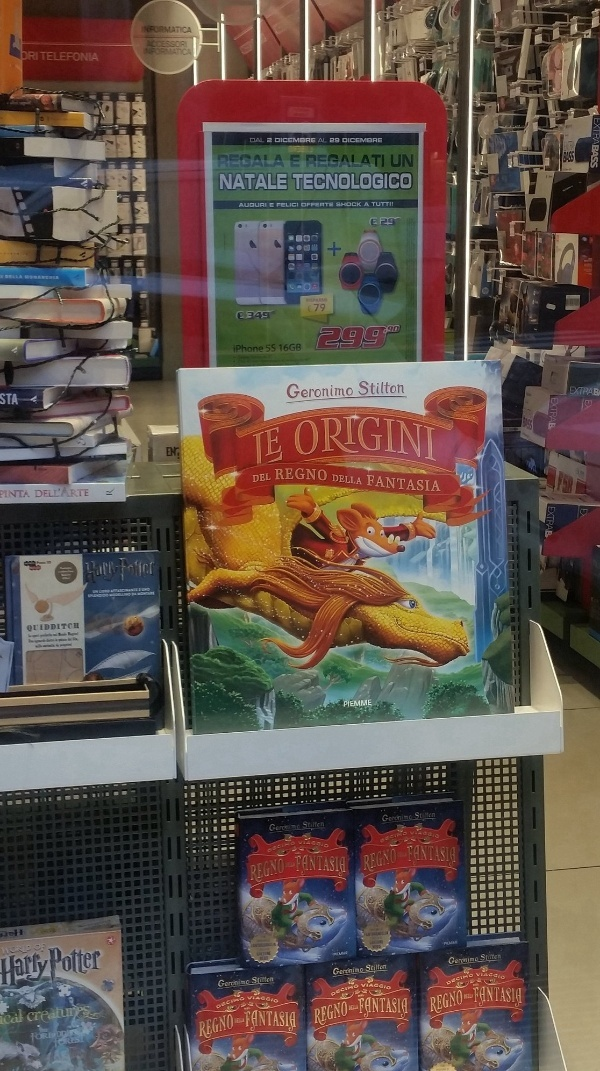text: (305, 410, 320, 464), (321, 410, 336, 464), (337, 410, 352, 464), (353, 410, 368, 464), (369, 410, 384, 464), (385, 410, 400, 464), (401, 410, 416, 464), (417, 410, 432, 464), (49, 941, 64, 983), (65, 941, 80, 983), (81, 941, 96, 983), (257, 426, 272, 466), (33, 948, 49, 985), (1, 948, 16, 985), (17, 948, 32, 985), (294, 410, 304, 464), (433, 988, 448, 1020), (449, 988, 463, 1020), (209, 1013, 224, 1042), (369, 846, 384, 875), (369, 995, 384, 1024), (385, 995, 400, 1024), (548, 506, 560, 540), (257, 857, 272, 884), (321, 1000, 336, 1027), (273, 426, 283, 466), (129, 557, 144, 583), (33, 1027, 48, 1053), (49, 1027, 64, 1053), (65, 1027, 80, 1053), (321, 326, 336, 351), (337, 326, 352, 351), (353, 326, 368, 351), (369, 326, 384, 351), (257, 1010, 272, 1035), (273, 1010, 288, 1035), (417, 845, 432, 869), (433, 845, 448, 869), (481, 985, 496, 1009), (497, 985, 512, 1009), (97, 560, 112, 584), (385, 846, 397, 875), (305, 855, 320, 878), (321, 855, 336, 878), (561, 470, 574, 495), (357, 995, 368, 1024), (369, 930, 384, 951), (33, 1007, 48, 1028), (49, 1007, 64, 1028), (594, 118, 600, 170), (551, 398, 560, 432), (369, 475, 384, 495), (385, 475, 400, 495), (401, 475, 416, 495), (417, 475, 432, 495), (244, 1010, 256, 1035), (273, 857, 284, 884), (337, 1000, 348, 1027), (305, 173, 320, 192), (321, 173, 336, 192), (337, 173, 352, 192), (353, 173, 368, 192), (369, 173, 384, 192), (385, 173, 400, 192), (65, 1007, 78, 1028), (85, 560, 96, 584), (199, 1013, 208, 1042), (225, 1013, 234, 1042), (118, 557, 128, 583), (145, 557, 155, 583), (337, 383, 353, 399), (225, 173, 240, 190), (241, 173, 256, 190), (257, 173, 272, 190), (33, 632, 48, 649), (49, 632, 64, 649), (1, 1009, 16, 1026), (225, 153, 240, 169), (241, 153, 256, 169), (257, 153, 272, 169), (369, 154, 385, 169), (369, 380, 384, 396), (385, 380, 400, 396), (289, 383, 304, 399), (305, 383, 320, 399), (321, 383, 336, 399), (225, 995, 240, 1011), (513, 985, 523, 1009), (273, 173, 287, 190), (65, 632, 79, 649), (401, 995, 409, 1024), (292, 173, 304, 192), (401, 173, 413, 192), (321, 154, 336, 169), (337, 154, 352, 169), (353, 154, 368, 169), (385, 830, 400, 845), (449, 971, 464, 986), (433, 410, 437, 464), (407, 845, 416, 869), (306, 154, 320, 169), (337, 983, 352, 997), (97, 941, 102, 983), (49, 484, 64, 498), (65, 484, 80, 498), (295, 855, 304, 878), (337, 855, 346, 878), (34, 484, 48, 498), (289, 469, 304, 482), (305, 469, 320, 482), (273, 840, 288, 853), (273, 153, 285, 169), (291, 154, 304, 168), (401, 153, 413, 168), (289, 1010, 296, 1035), (275, 469, 288, 482), (449, 845, 456, 869), (473, 985, 480, 1009), (337, 474, 352, 485), (33, 561, 48, 572), (1, 944, 16, 955), (314, 1000, 320, 1027), (433, 475, 441, 495), (17, 944, 31, 955), (49, 52, 64, 62), (65, 52, 80, 62), (81, 52, 96, 62), (273, 821, 288, 831), (305, 839, 320, 849), (257, 951, 272, 961), (385, 813, 400, 823), (417, 829, 432, 839), (33, 622, 48, 632), (49, 622, 64, 632), (65, 622, 80, 632), (97, 588, 112, 598), (113, 588, 128, 598), (129, 588, 144, 598), (1, 929, 16, 939), (577, 386, 592, 396), (363, 846, 368, 875), (177, 25, 193, 34), (564, 151, 576, 163), (257, 474, 271, 484), (34, 942, 48, 952), (145, 25, 160, 34), (161, 25, 176, 34), (391, 153, 400, 168), (241, 345, 256, 354), (385, 325, 400, 334), (353, 699, 368, 708), (251, 857, 256, 884), (225, 979, 240, 988), (417, 811, 432, 820), (481, 972, 496, 981), (65, 567, 75, 580), (360, 380, 368, 396), (216, 995, 224, 1011), (370, 218, 384, 227), (161, 40, 176, 48), (145, 47, 160, 55), (161, 47, 176, 55), (177, 47, 192, 55), (253, 426, 256, 466), (305, 821, 320, 829), (257, 977, 272, 985), (257, 996, 272, 1004), (337, 968, 352, 976), (369, 965, 384, 973), (369, 983, 384, 991), (449, 957, 464, 965), (465, 971, 473, 986), (257, 311, 270, 320), (289, 344, 302, 353), (81, 484, 89, 498), (353, 474, 363, 485), (289, 821, 300, 831), (401, 813, 412, 823), (580, 508, 592, 517), (401, 830, 408, 845), (481, 954, 496, 961), (465, 957, 478, 965), (22, 51, 32, 61), (145, 588, 155, 598), (148, 40, 160, 48), (218, 153, 224, 169), (113, 560, 117, 584), (289, 840, 296, 853), (57, 567, 64, 580), (353, 138, 368, 144), (257, 942, 272, 948), (241, 979, 251, 988), (177, 40, 188, 48), (353, 968, 364, 976), (504, 324, 512, 335), (17, 1009, 22, 1026), (364, 930, 368, 951), (385, 930, 389, 951), (353, 983, 359, 997), (28, 1007, 32, 1028), (247, 311, 256, 320), (279, 344, 288, 353), (40, 52, 48, 62), (385, 218, 395, 226), (321, 839, 329, 849), (246, 996, 256, 1004), (88, 588, 96, 598), (523, 416, 528, 432), (369, 138, 382, 144), (321, 469, 327, 482), (25, 561, 32, 572), (241, 202, 256, 207), (289, 138, 304, 143), (305, 202, 320, 207), (337, 202, 352, 207), (385, 326, 388, 351), (497, 972, 505, 981), (24, 489, 32, 498), (306, 298, 320, 303), (409, 829, 416, 839), (433, 829, 440, 839), (331, 983, 336, 997), (220, 173, 224, 190), (28, 632, 32, 649), (337, 951, 348, 957), (275, 138, 288, 143), (321, 202, 334, 207), (371, 202, 384, 207), (401, 380, 405, 396), (241, 995, 245, 1011), (430, 988, 432, 1020), (529, 416, 533, 432), (257, 345, 264, 354), (345, 699, 352, 708), (33, 51, 39, 61), (342, 138, 352, 144), (298, 839, 304, 849), (380, 830, 384, 845), (17, 929, 23, 939), (570, 386, 576, 396), (361, 983, 368, 991), (277, 202, 288, 207), (305, 138, 316, 143), (314, 304, 320, 313), (321, 304, 327, 313), (234, 345, 240, 354), (449, 940, 458, 946), (465, 994, 474, 1000), (268, 840, 272, 853), (81, 1027, 83, 1053), (257, 202, 267, 207), (289, 202, 299, 207), (585, 399, 592, 406), (385, 983, 391, 991), (594, 388, 600, 396), (385, 202, 394, 207), (267, 344, 272, 353), (219, 979, 224, 988), (475, 972, 480, 981), (445, 971, 448, 986), (332, 474, 336, 485), (47, 941, 48, 983), (257, 138, 265, 143), (353, 202, 361, 207), (273, 996, 278, 1004), (28, 622, 32, 632), (330, 138, 336, 144), (321, 138, 328, 143), (49, 561, 52, 572), (97, 52, 100, 62), (250, 138, 256, 143), (267, 138, 272, 144), (321, 298, 327, 303), (253, 474, 256, 484), (269, 821, 272, 831), (497, 954, 501, 961), (141, 25, 144, 34), (273, 344, 276, 353), (369, 699, 372, 708), (237, 311, 240, 320), (241, 311, 244, 320), (559, 470, 560, 495), (381, 218, 384, 226), (321, 821, 324, 829), (252, 942, 256, 948), (253, 977, 256, 985), (333, 968, 336, 976), (367, 475, 368, 495), (382, 813, 384, 823), (337, 138, 340, 144), (273, 942, 276, 948), (433, 811, 435, 820), (445, 940, 448, 946), (287, 383, 288, 399), (366, 965, 368, 973), (385, 965, 387, 973), (365, 203, 368, 207), (334, 951, 336, 957), (513, 324, 514, 335), (302, 202, 304, 207), (415, 811, 416, 820), (270, 203, 272, 207), (303, 821, 304, 829), (273, 977, 274, 985), (273, 203, 274, 207)
